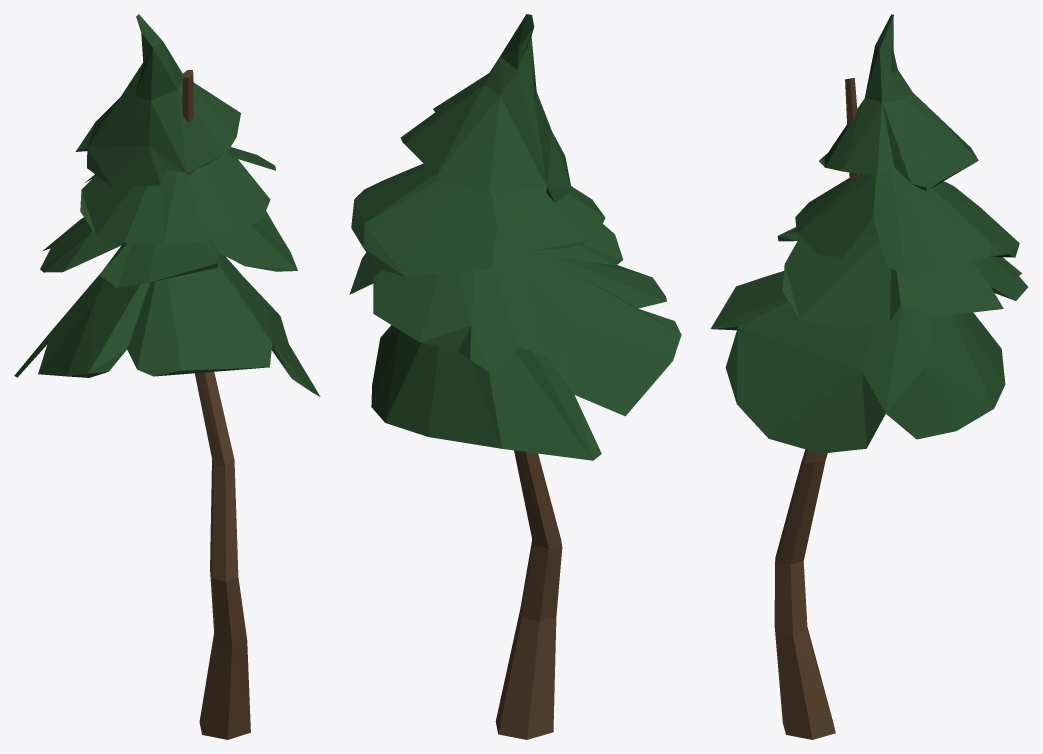
Rendered from pine_1.glb.
3 views of the same model, side by side, from view 1: azimuth 30°, elevation 25°; view 2: azimuth 150°, elevation 25°; view 3: azimuth 270°, elevation 25° (orthographic). The views are drawn at different scales.
Parts seen in each view (by area): view 1: lod0; view 2: lod0; view 3: lod0.
Boxes of the visible parts, x1,y1,x2,y2 form: lod0: (14, 14, 320, 739); lod0: (349, 14, 681, 739); lod0: (710, 14, 1028, 739).
Size of what is drawn, in the model's own units: 3.04 by 8.2 by 3.42.
